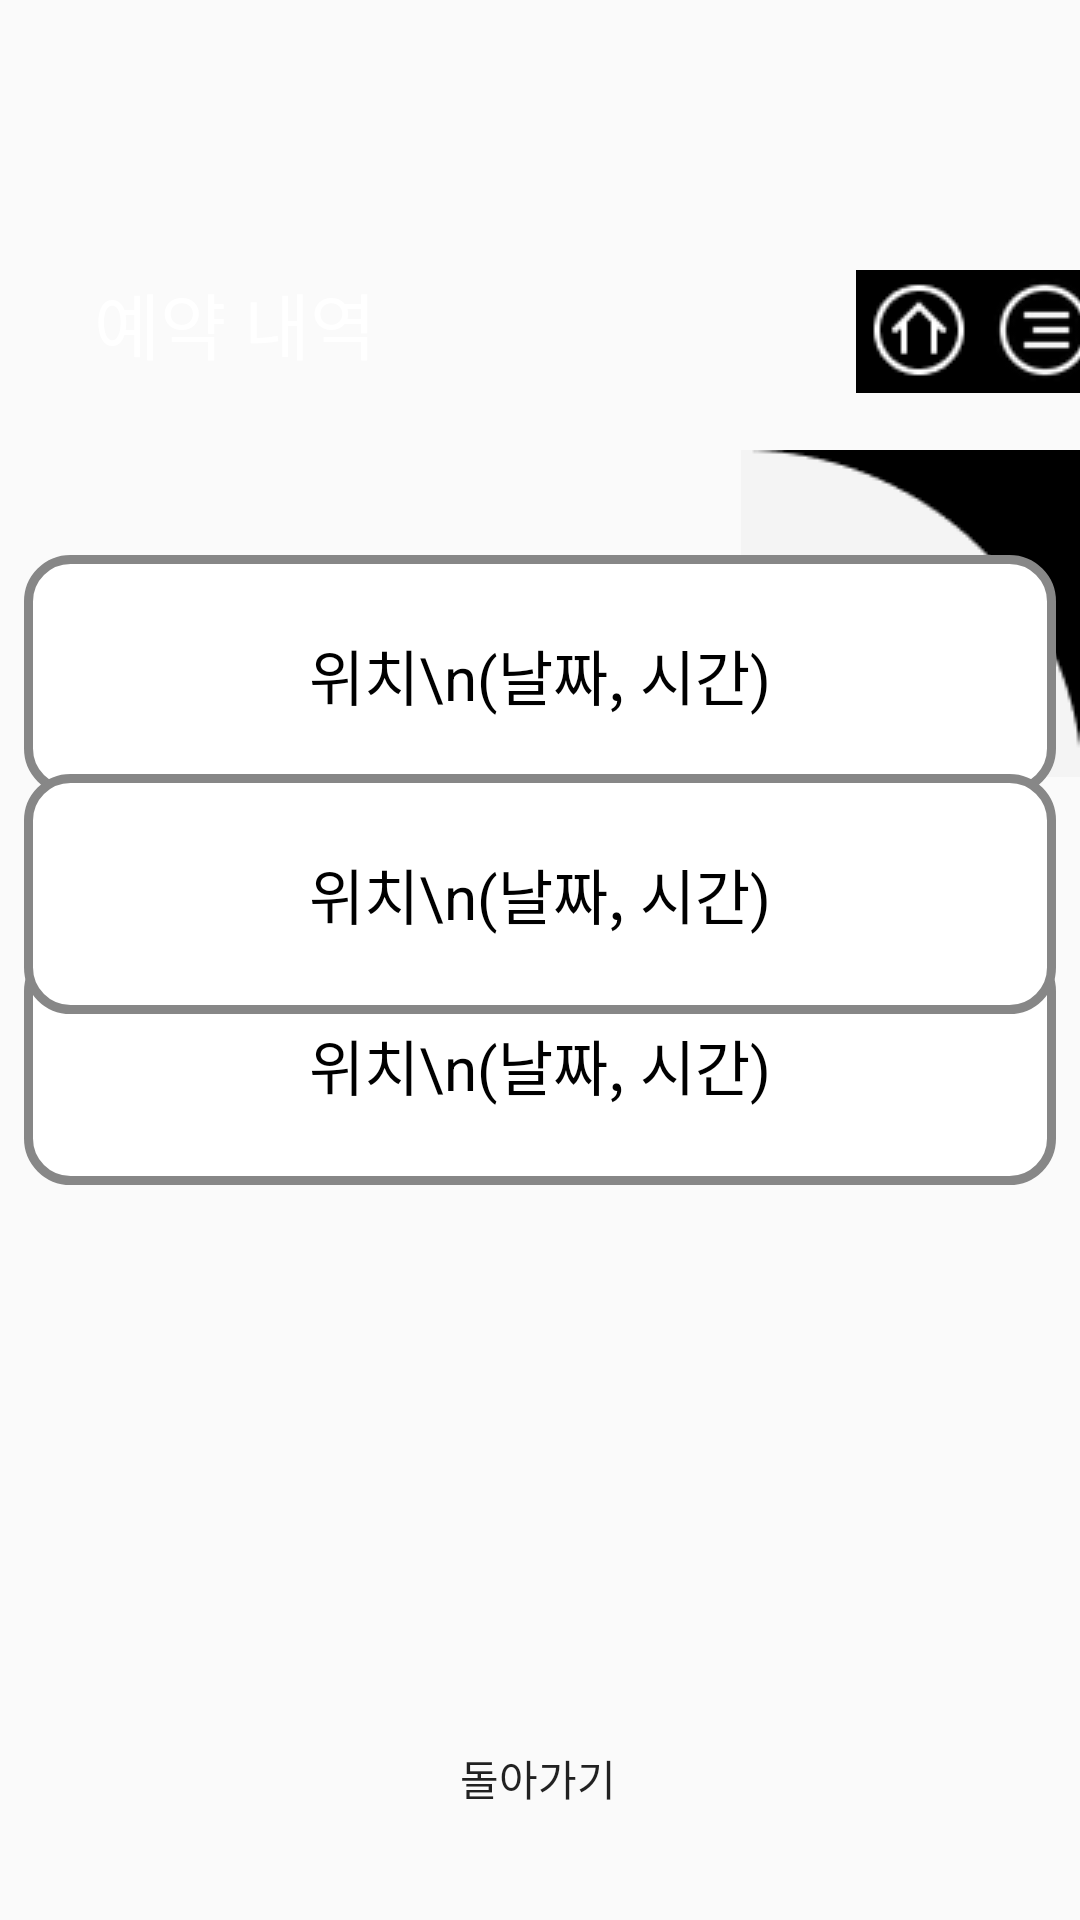

Where icons sit on this 1080 x 1920 app screen, as [x1=x1, y1=y1, x2=x2, y2=y2]:
home: [x1=856, y1=270, x2=982, y2=393]
